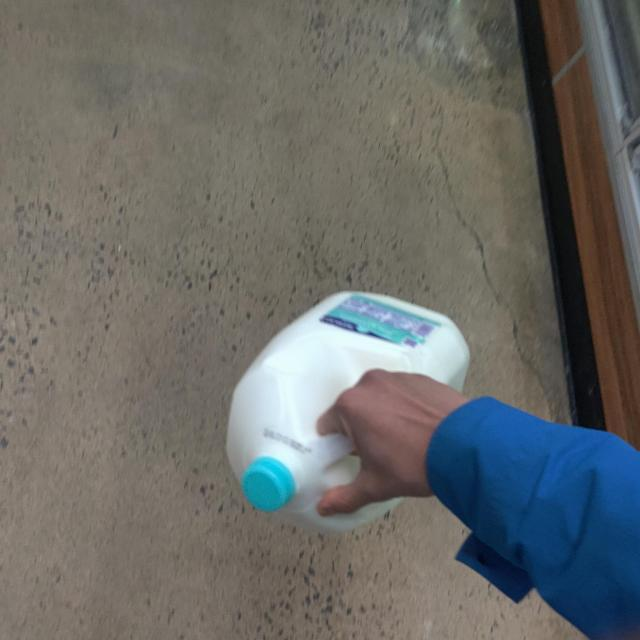milk: (164, 287, 486, 548)
